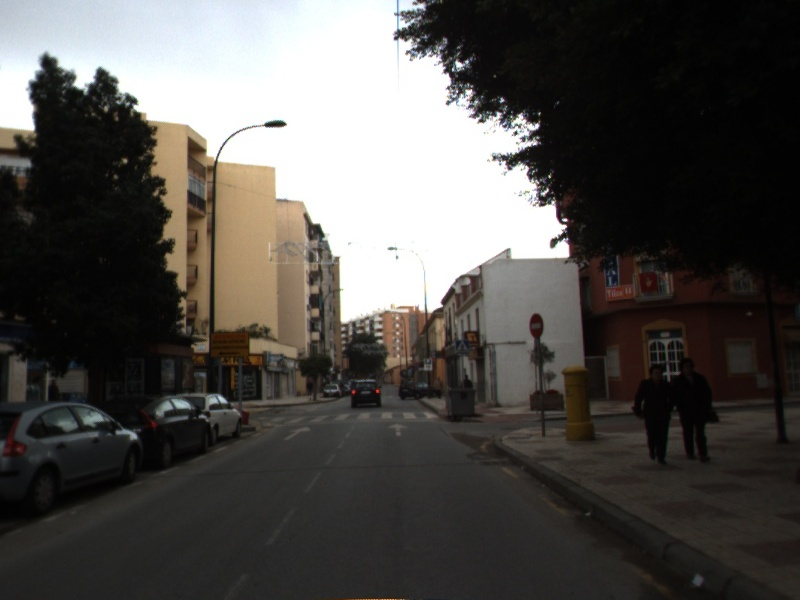STRAIGHT: (281, 424, 313, 442), (385, 421, 410, 438)
